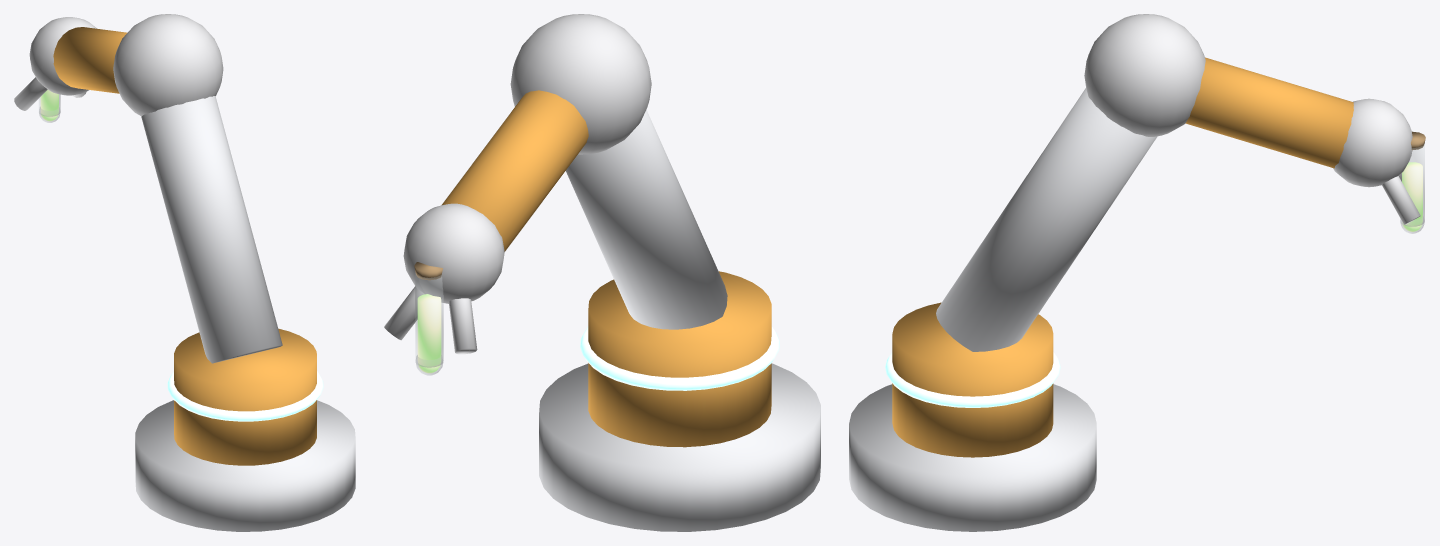
The model's file is L10_Robot_Arm.glb.
3 views of the same model, side by side, from view 1: azimuth 30°, elevation 25°; view 2: azimuth 150°, elevation 25°; view 3: azimuth 270°, elevation 25° (orthographic). The views are drawn at different scales.
Parts seen in each view (by area): view 1: L10_Robot_Arm_Mesh; view 2: L10_Robot_Arm_Mesh; view 3: L10_Robot_Arm_Mesh.
Part boxes in pixels (left/top/right/bottom): L10_Robot_Arm_Mesh: left=14, top=14, right=355, bottom=531; L10_Robot_Arm_Mesh: left=384, top=14, right=820, bottom=531; L10_Robot_Arm_Mesh: left=849, top=14, right=1425, bottom=531.
Size of the model in its own units: 2 by 4.1 by 4.66.
